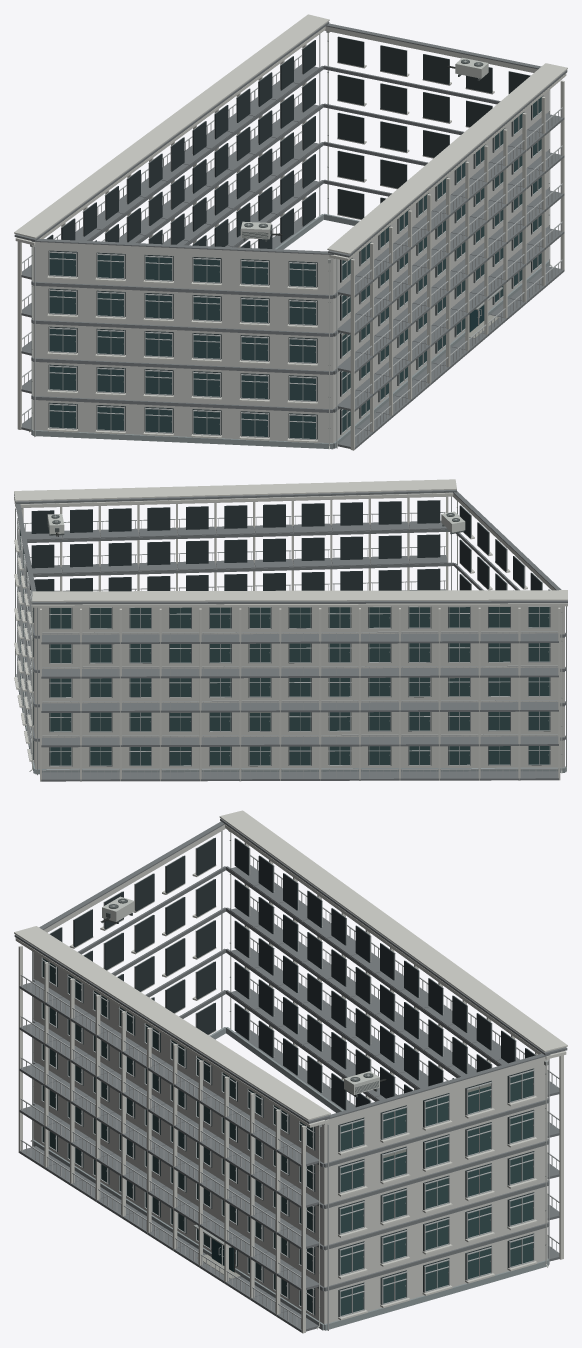
The model's file is njupt_k_dormitory_05.glb.
The picture shows the model from 3 angles, top to bottom: view 1: azimuth 30°, elevation 25°; view 2: azimuth 150°, elevation 25°; view 3: azimuth 270°, elevation 25°; orthographic projection. The views are drawn at different scales.
Visible parts, largest first — view 1: Windows and facade details | K组团宿舍（模型序号5）, Architecture | K组团宿舍（模型序号5）, Roof services | K组团宿舍（模型序号5）, EXTERIOR::njupt_k_dormitory_05::rainwater and roof service d, EXTERIOR::njupt_k_dormitory_05::inferred entry doors canopy ; view 2: Windows and facade details | K组团宿舍（模型序号5）, Architecture | K组团宿舍（模型序号5）, Roof services | K组团宿舍（模型序号5）, EXTERIOR::njupt_k_dormitory_05::rainwater and roof service d; view 3: Windows and facade details | K组团宿舍（模型序号5）, Architecture | K组团宿舍（模型序号5）, Roof services | K组团宿舍（模型序号5）, EXTERIOR::njupt_k_dormitory_05::rainwater and roof service d, EXTERIOR::njupt_k_dormitory_05::inferred entry doors canopy .
Boxes of the visible parts, x1,y1,x2,y2 form: Windows and facade details | K组团宿舍（模型序号5）: (21,34,564,449); Architecture | K组团宿舍（模型序号5）: (17,26,564,450); Roof services | K组团宿舍（模型序号5）: (14,14,567,261); EXTERIOR::njupt_k_dormitory_05::rainwater and roof service d: (29,31,552,449); EXTERIOR::njupt_k_dormitory_05::inferred entry doors canopy : (469,287,502,338); Windows and facade details | K组团宿舍（模型序号5）: (14,496,566,781); Architecture | K组团宿舍（模型序号5）: (16,492,566,781); Roof services | K组团宿舍（模型序号5）: (14,479,567,607); EXTERIOR::njupt_k_dormitory_05::rainwater and roof service d: (21,501,562,773); Windows and facade details | K组团宿舍（模型序号5）: (19,831,559,1332); Architecture | K组团宿舍（模型序号5）: (18,824,563,1333); Roof services | K组团宿舍（模型序号5）: (14,810,567,1127); EXTERIOR::njupt_k_dormitory_05::rainwater and roof service d: (30,830,548,1329); EXTERIOR::njupt_k_dormitory_05::inferred entry doors canopy : (193,1224,240,1278).
Size of the model in its own units: 58.17 by 19.48 by 44.06.
